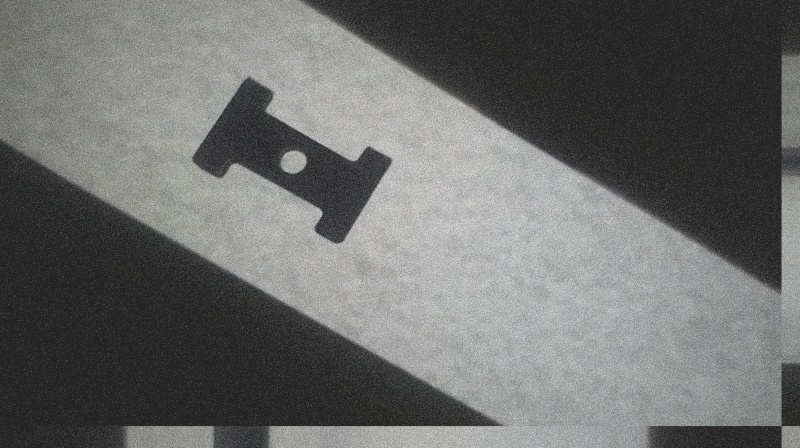O002: (189, 75, 398, 246)
